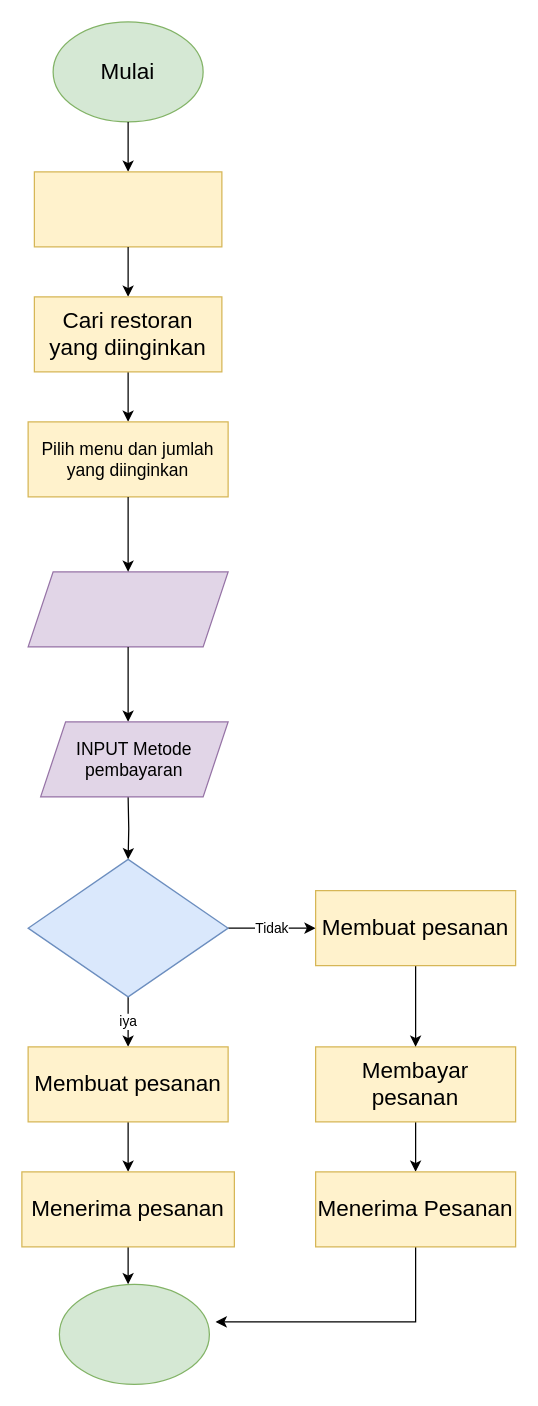
Some shapes in this 538 by 1406 pixel diagram are drawn without their labels. Here are the shapes that lost their labels. From the top down, the box of each, then its label:
(33, 171, 222, 247): Buka aplikasi online
(27, 571, 228, 647): M a sukkan alamat tujuan
(27, 858, 228, 997): Metode pembayaran = Non tunai?
(58, 1283, 209, 1384): Selesai
